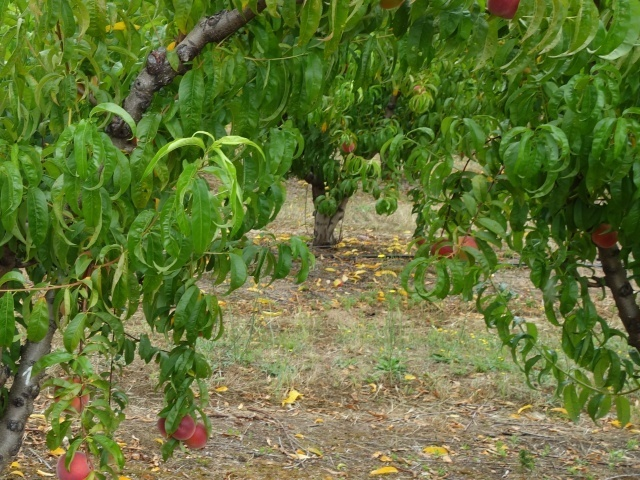peach: (50, 371, 93, 420), (52, 448, 97, 479), (588, 219, 623, 251), (181, 420, 212, 453), (425, 233, 458, 264), (169, 410, 198, 444), (482, 1, 523, 22), (453, 231, 483, 259)
